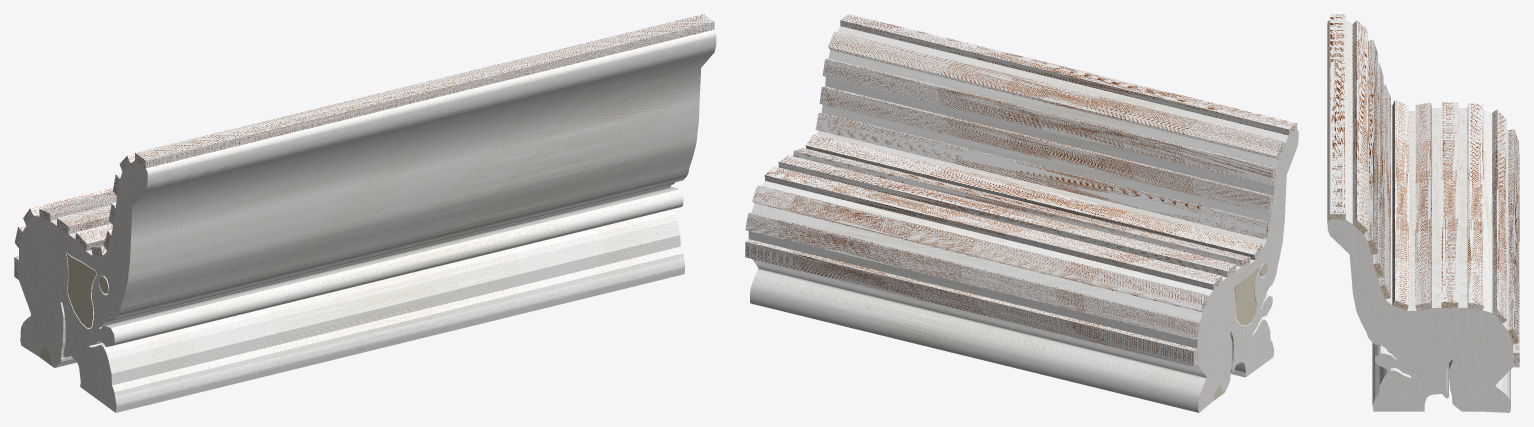
3 views of the same model, side by side, from view 1: azimuth 30°, elevation 25°; view 2: azimuth 150°, elevation 25°; view 3: azimuth 270°, elevation 25° (orthographic). The views are drawn at different scales.
Parts seen in each view (by area): view 1: mesh1_mesh1-geometry, mesh2_mesh2-geometry; view 2: mesh1_mesh1-geometry, mesh2_mesh2-geometry; view 3: mesh1_mesh1-geometry.
Part boxes in pixels (x1,y1,x2,y2): mesh1_mesh1-geometry: [14, 14, 716, 412]; mesh2_mesh2-geometry: [66, 253, 96, 327]; mesh1_mesh1-geometry: [745, 14, 1298, 412]; mesh2_mesh2-geometry: [1235, 269, 1258, 325]; mesh1_mesh1-geometry: [1327, 14, 1519, 412].
Size of the model in its own units: 0.8513 by 0.3949 by 0.3455.
